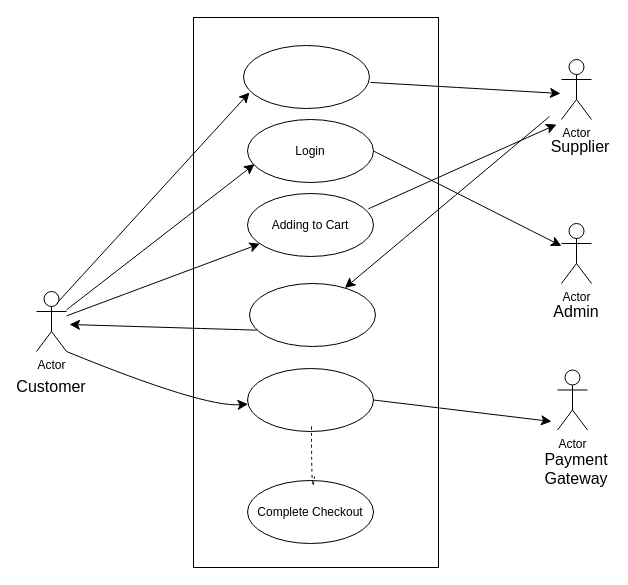
Image size: 628x585. Some labels were removed from this diagram. The shapes that lost their labels are listed below. From the top down, each one's box as (x1, y1, x2, y2) in pixels, then its label:
(242, 44, 370, 108): Browse Products
(248, 282, 376, 346): Advertisements
(246, 368, 374, 432): Payment
